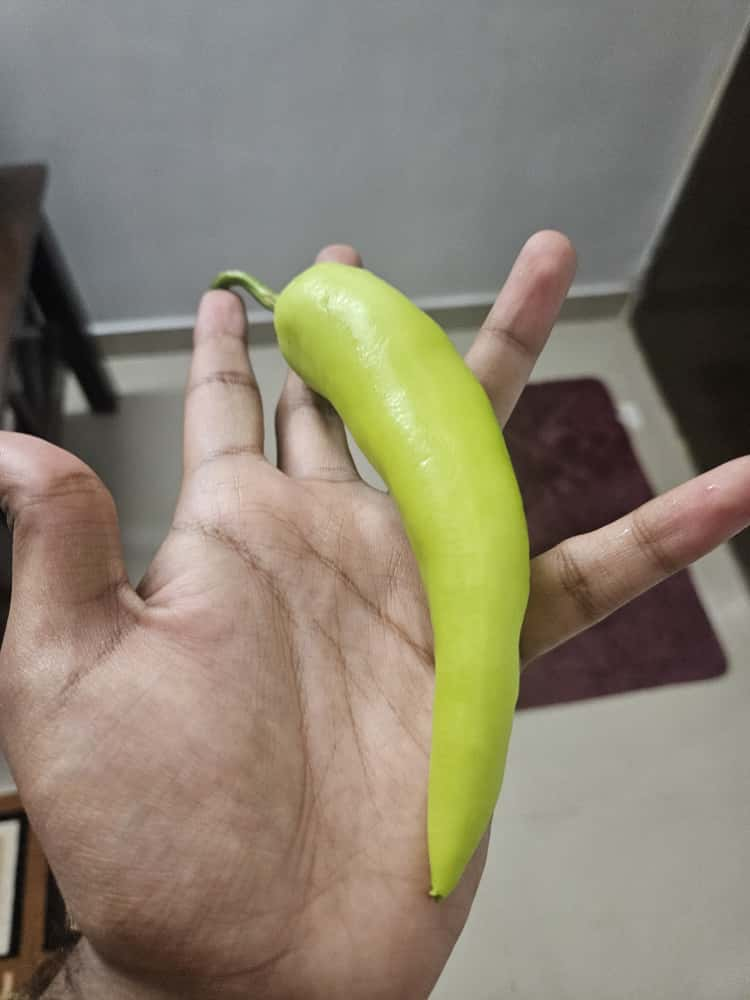wet: (169, 273, 593, 912)
